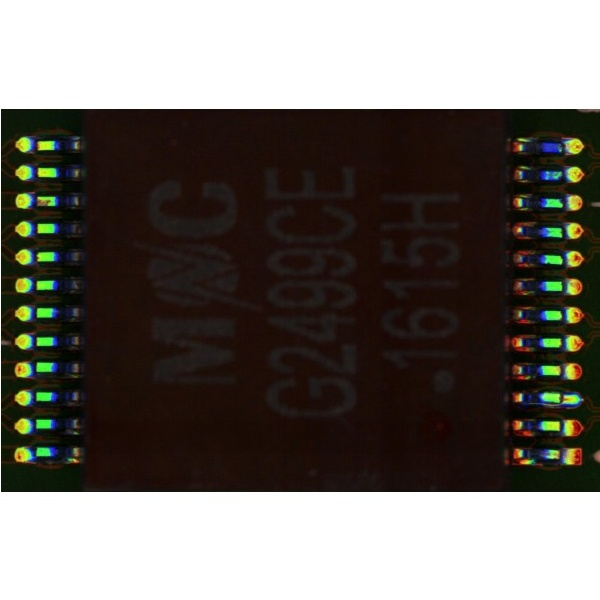Bad_podu: (552, 394, 572, 402)
